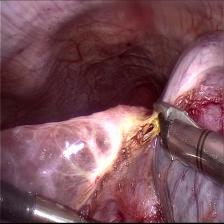Clipper: (149, 101, 207, 176)
